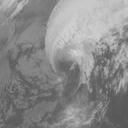cyclone: (44, 39, 94, 91)
